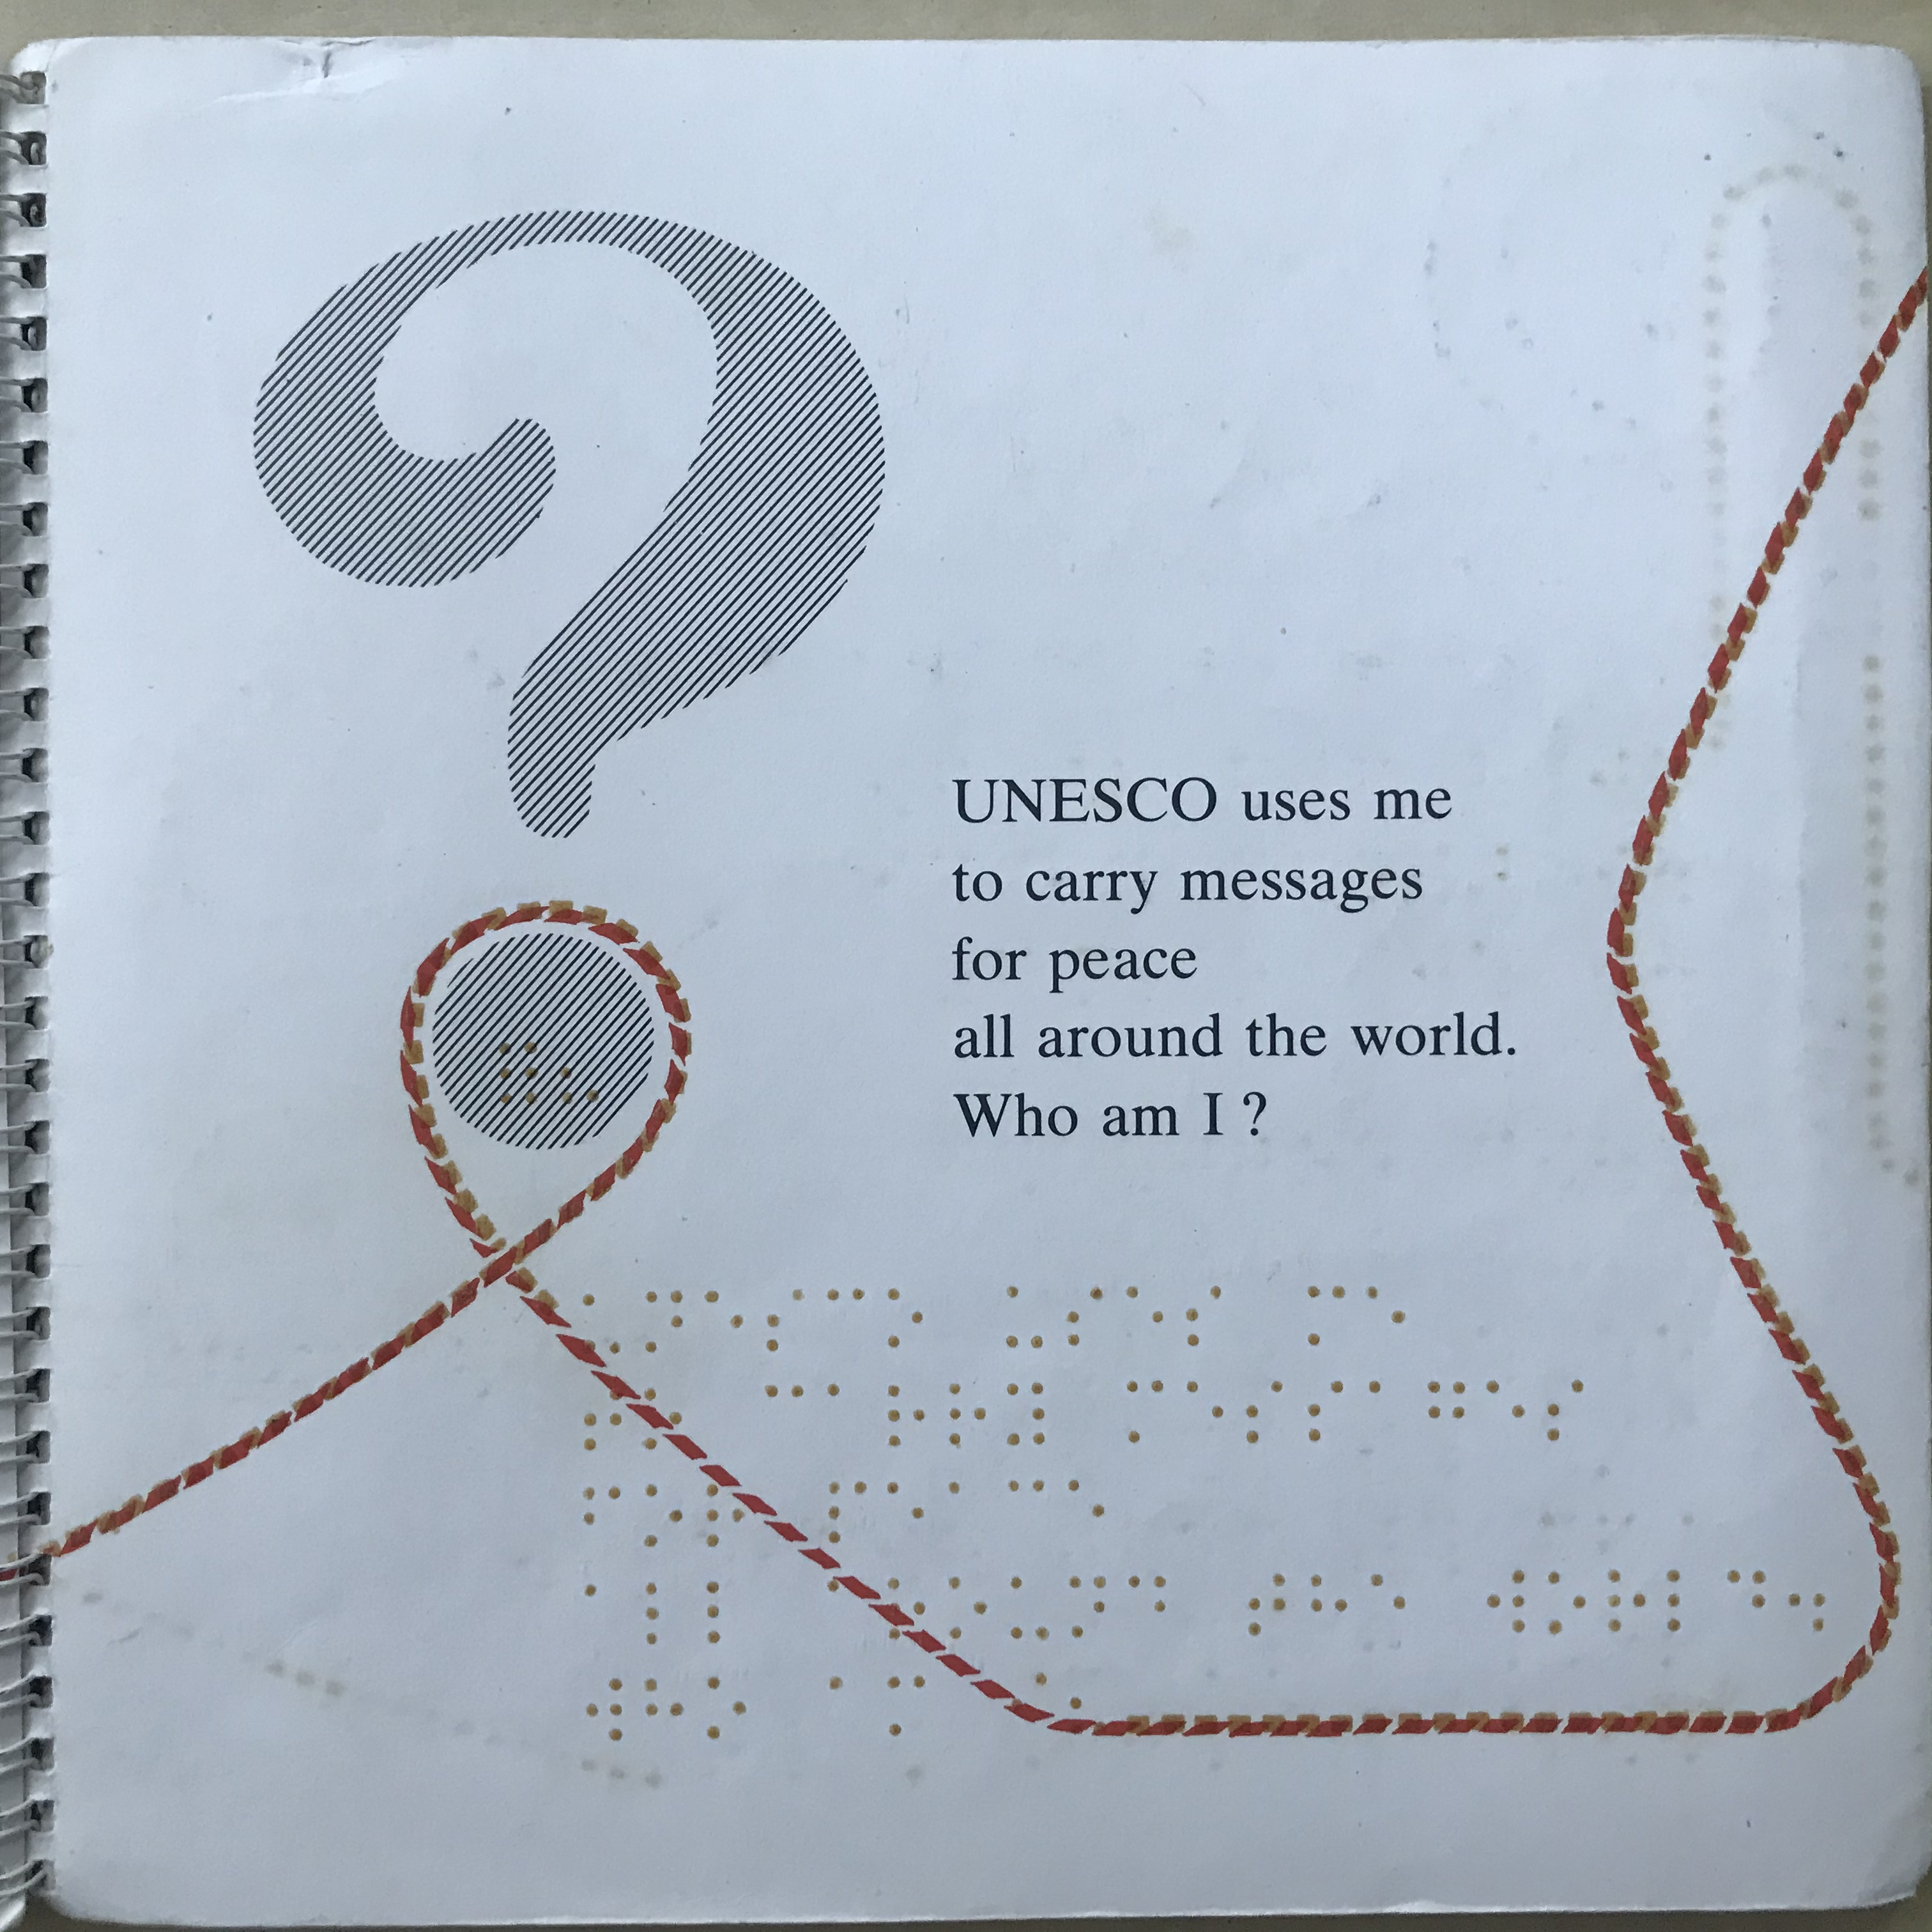Braille: (702, 1675, 750, 1746), (1003, 1281, 1047, 1357), (885, 1476, 929, 1550), (1008, 1571, 1053, 1645), (580, 1675, 625, 1750), (557, 1039, 600, 1115), (1182, 1375, 1226, 1447), (1304, 1279, 1350, 1348), (1072, 1670, 1118, 1739), (499, 1037, 541, 1111), (702, 1284, 745, 1359), (1486, 1569, 1529, 1644), (1789, 1566, 1831, 1640), (642, 1675, 685, 1750), (1426, 1376, 1470, 1447), (885, 1578, 929, 1649), (1069, 1571, 1113, 1642), (763, 1380, 805, 1453), (1246, 1571, 1288, 1644), (1729, 1564, 1769, 1638), (823, 1578, 869, 1644), (582, 1288, 625, 1359), (1605, 1569, 1647, 1640), (885, 1384, 929, 1451), (644, 1288, 686, 1357), (1368, 1283, 1410, 1352), (584, 1385, 626, 1454), (1306, 1376, 1348, 1445), (1008, 1670, 1051, 1739), (824, 1479, 869, 1545), (1309, 1571, 1348, 1645), (1065, 1279, 1106, 1350), (642, 1385, 683, 1456), (1125, 1376, 1166, 1447), (1127, 1571, 1169, 1638), (706, 1483, 747, 1552), (1010, 1476, 1051, 1545), (1369, 1573, 1410, 1642), (766, 1286, 805, 1357), (826, 1284, 865, 1355), (886, 1283, 925, 1353), (1187, 1281, 1226, 1352), (948, 1382, 987, 1453), (1008, 1382, 1047, 1453), (1546, 1375, 1587, 1442), (1546, 1571, 1587, 1638), (1488, 1378, 1527, 1447), (646, 1483, 685, 1552), (945, 1477, 984, 1546), (644, 1582, 685, 1647), (1373, 1375, 1408, 1449), (708, 1580, 745, 1651), (948, 1575, 987, 1642), (1667, 1568, 1706, 1635), (1247, 1376, 1283, 1449), (1127, 1281, 1164, 1350), (1069, 1476, 1108, 1541), (888, 1675, 929, 1737), (828, 1382, 865, 1449), (830, 1672, 867, 1737), (584, 1484, 621, 1548), (587, 1582, 623, 1644)
